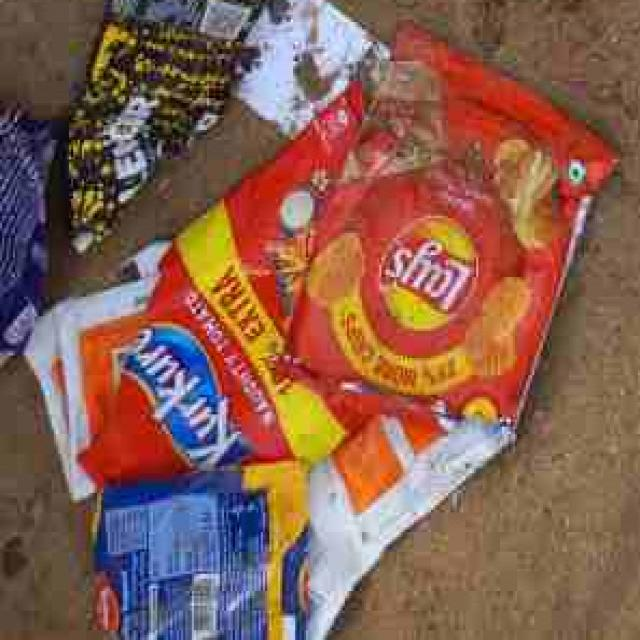giay_goi: (293, 20, 618, 421), (80, 83, 381, 488), (95, 463, 312, 640)
